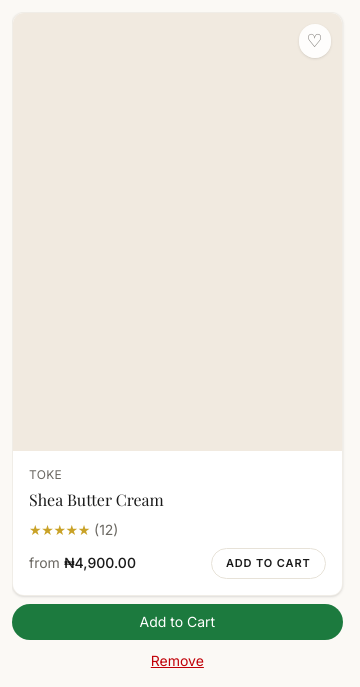
WishlistGrid › Remove DELETEs /api/wishlist/{sku}, then re-GETs, and the card disappears
Step 1. Click the button "Remove" → (177, 661), box 12,651 -> 343,671
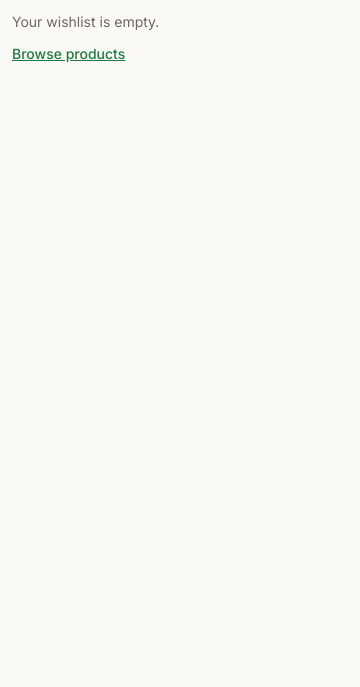
Expected: the link "Shea Butter Cream" is gone
